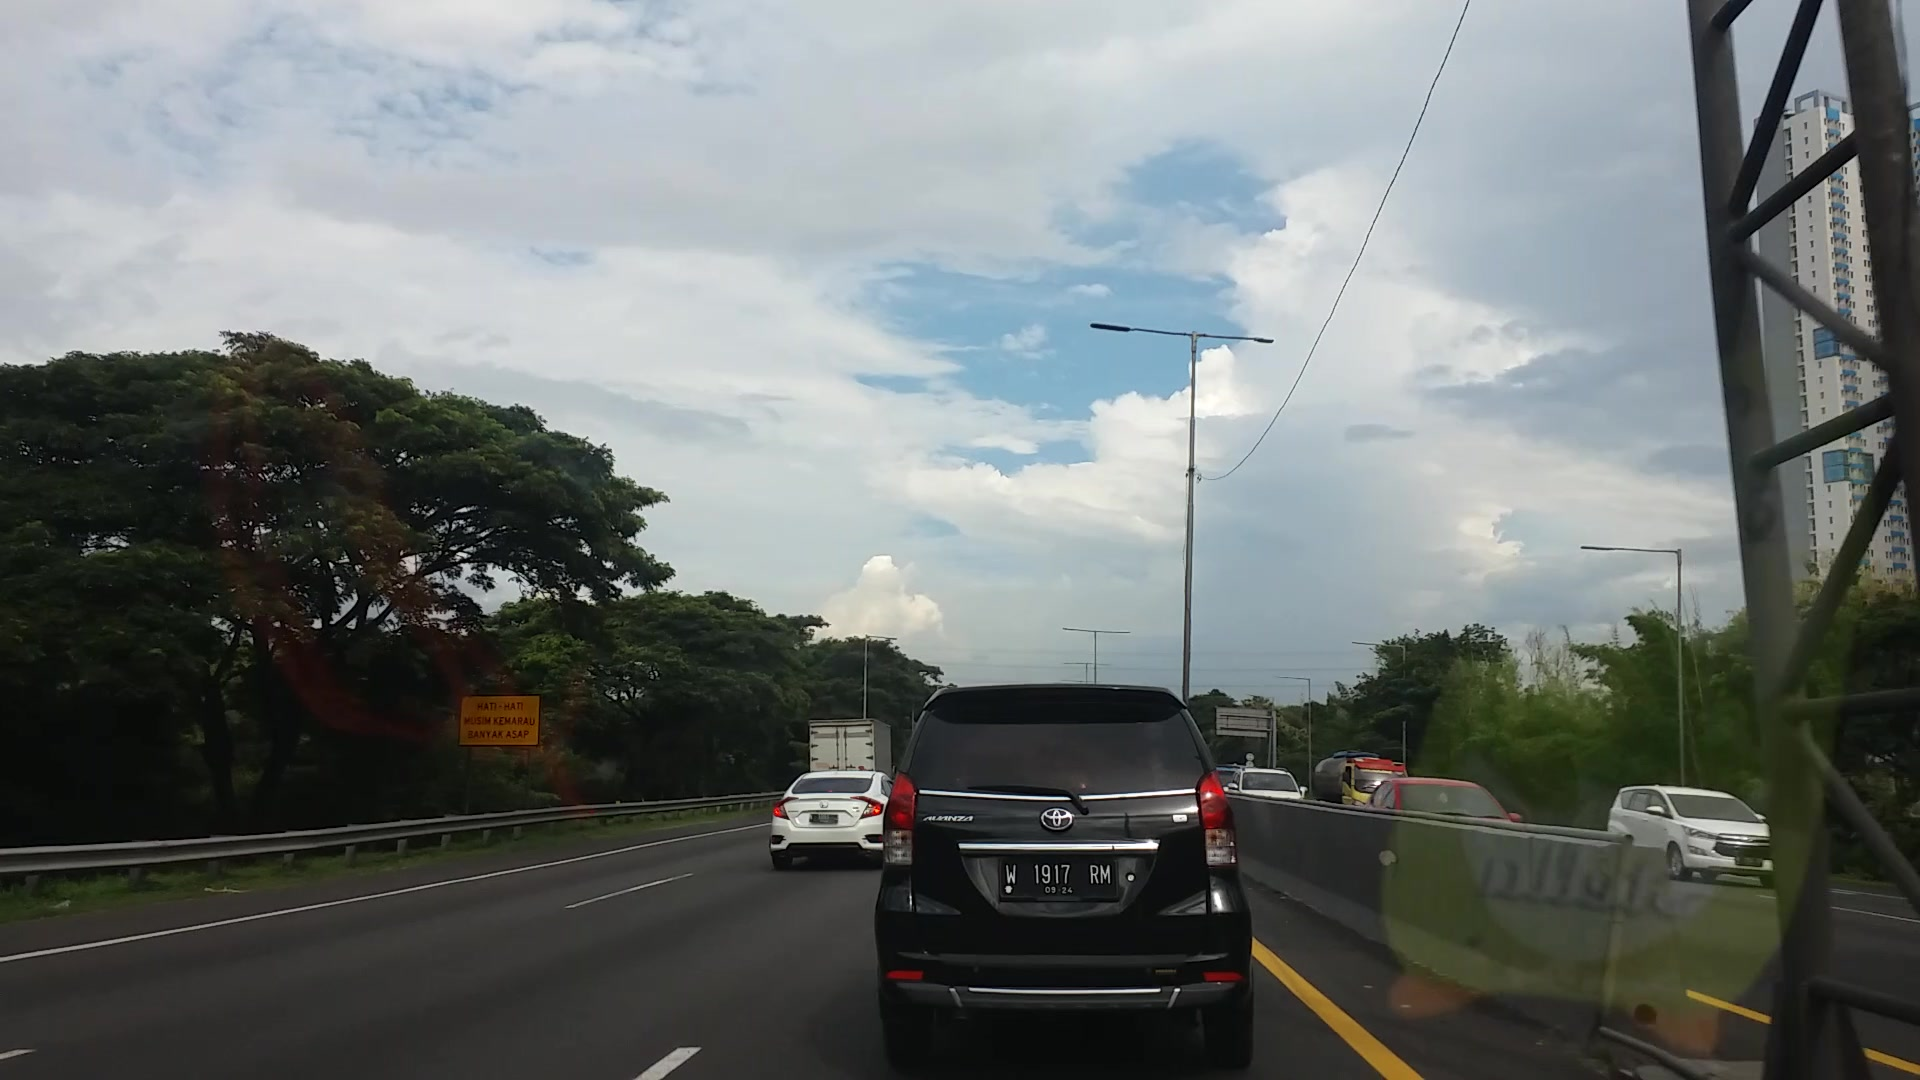plate_positive: (997, 855, 1117, 903)
